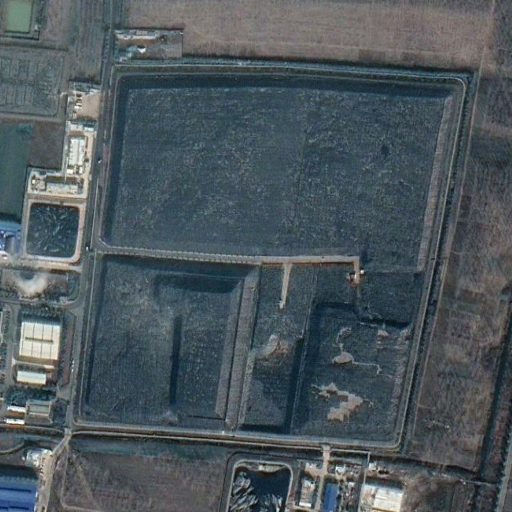lf: (76, 63, 468, 452)
